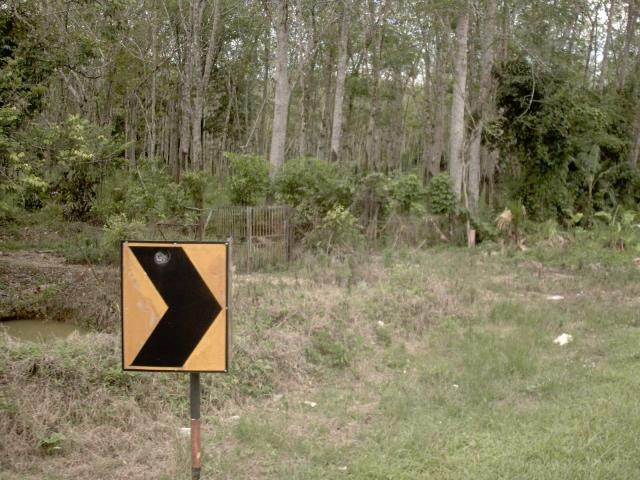traffic_sign: (106, 221, 240, 389)
